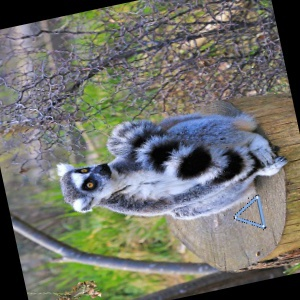triangle: (231, 193, 268, 231)
